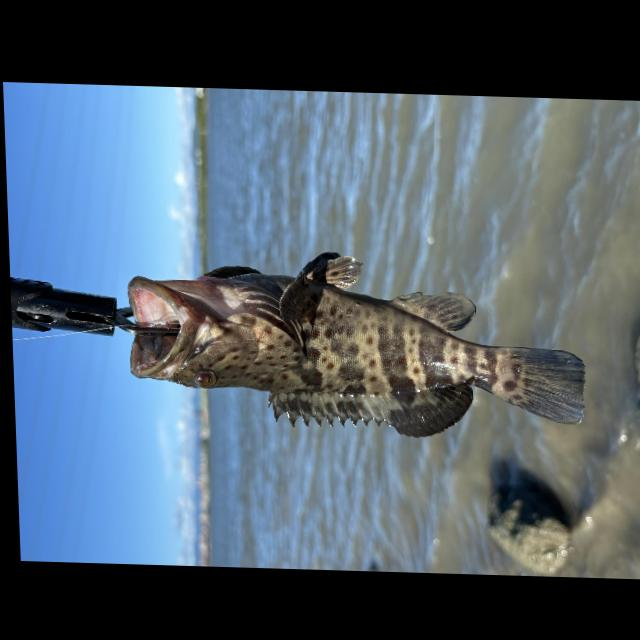Groupers: (125, 248, 586, 442)
